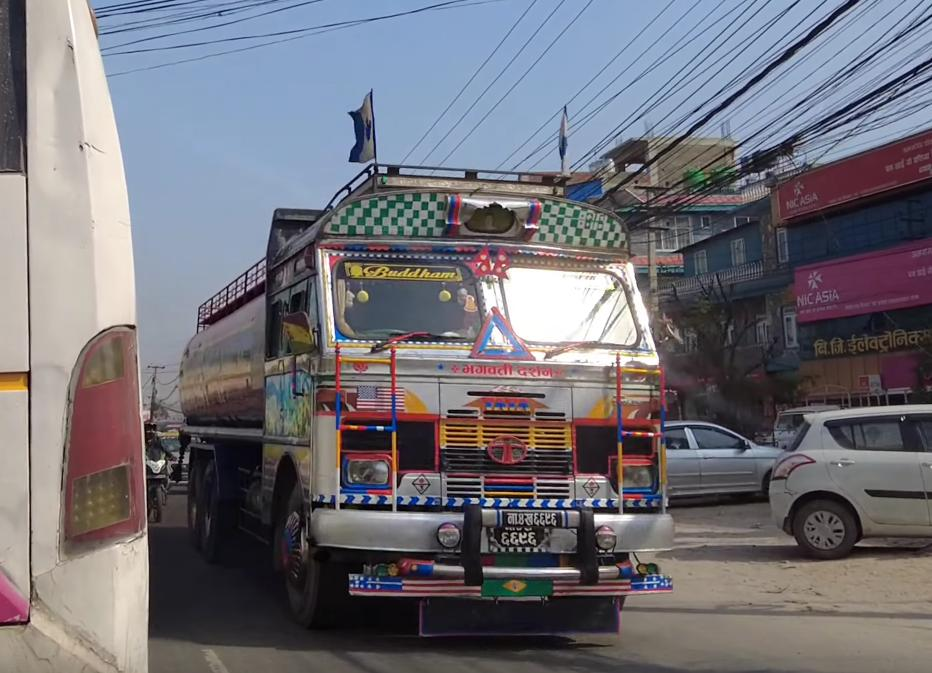bike: (144, 453, 173, 523)
car: (764, 399, 932, 559), (662, 416, 790, 506)
truck: (178, 162, 676, 637)
